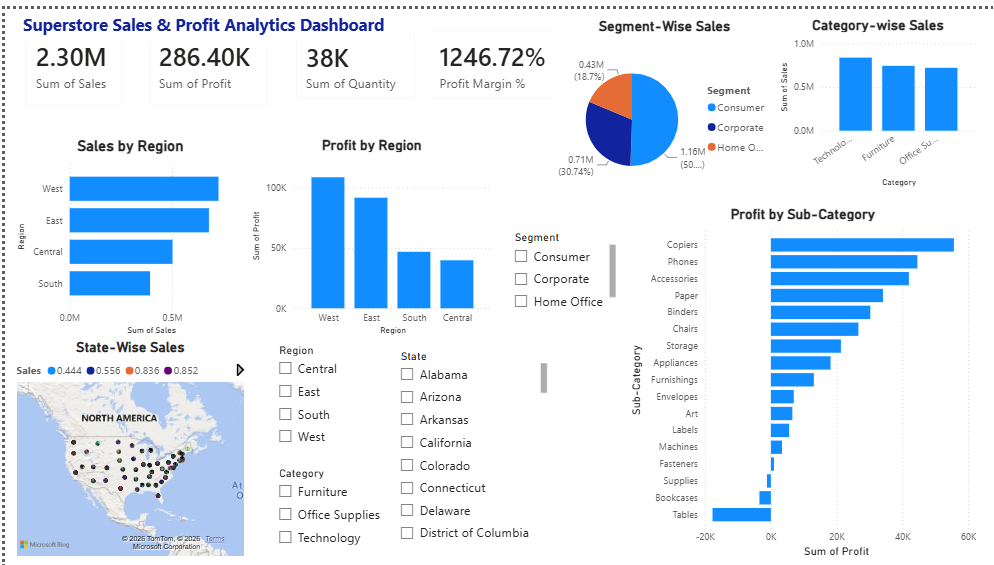

The page's visual inventory and layout, read from the dashboard file:
{"tool":"powerbi","page":{"name":"Dashboard","canvas":[1280,720],"ordinal":0},"visuals":[{"type":"cardVisual","fields":{"Data":["Sum(SampleSuperstore.Sales)"]},"box":[9.4,0,158.7,141.7],"z":0},{"type":"cardVisual","fields":{"Data":["Sum(SampleSuperstore.Profit)"]},"box":[168.2,0,187.1,141.7],"z":1000},{"type":"cardVisual","fields":{"Data":["SampleSuperstore.Profit Margin %"]},"box":[527.2,9.4,206,122.8],"z":2000},{"type":"cardVisual","fields":{"Data":["Sum(SampleSuperstore.Quantity)"]},"box":[355.3,11.3,187.1,120.9],"z":3000},{"type":"clusteredBarChart","title":"Sales by Region","fields":{"Category":["SampleSuperstore.Region"],"Y":["Sum(SampleSuperstore.Sales)"]},"box":[9.4,164.4,302.4,258.9],"z":4000},{"type":"clusteredColumnChart","title":"Profit by Region","fields":{"Category":["SampleSuperstore.Region"],"Y":["Sum(SampleSuperstore.Profit)"]},"box":[311.8,164.4,317.5,258.9],"z":5000},{"type":"pieChart","title":"Segment-Wise Sales","fields":{"Category":["SampleSuperstore.Segment"],"Y":["Sum(SampleSuperstore.Sales)"]},"box":[701.1,11.3,287.2,240],"z":6000},{"type":"clusteredColumnChart","title":"Category-wise Sales","fields":{"Category":["SampleSuperstore.Category"],"Y":["Sum(SampleSuperstore.Sales)"]},"box":[988.5,9.6,261.5,223.1],"z":7000},{"type":"barChart","title":"Profit by Sub-Category","fields":{"Category":["SampleSuperstore.Sub-Category"],"Y":["Sum(SampleSuperstore.Profit)"]},"box":[795.6,251.3,453.5,455.4],"z":8000},{"type":"map","title":"State-Wise Sales","fields":{"Category":["SampleSuperstore.State"],"Series":["SampleSuperstore.Sales"]},"box":[9,423,302,283],"z":9000},{"type":"slicer","fields":{"Values":["SampleSuperstore.Region"]},"box":[338.3,423.3,204.1,158.7],"z":9001},{"type":"slicer","fields":{"Values":["SampleSuperstore.Category"]},"box":[338.3,580.2,172,126.6],"z":9002},{"type":"slicer","fields":{"Values":["SampleSuperstore.Segment"]},"box":[640.6,279.7,147.4,107.7],"z":9003},{"type":"slicer","fields":{"Values":["SampleSuperstore.State"]},"box":[495.1,430.9,206,262.7],"z":9004},{"type":"textbox","box":[0,0,509.6,42.3],"z":9005}]}

Visuals, with their boxes in screenshot pixels (x1, y1, x2, y2), scaled from the page's 1280x720 canvas onto the 994x565 screenshot:
cardVisual - Sum(SampleSuperstore.Sales): <bbox>7, 0, 131, 111</bbox>
cardVisual - Sum(SampleSuperstore.Profit): <bbox>131, 0, 276, 111</bbox>
cardVisual - SampleSuperstore.Profit Margin %: <bbox>409, 7, 569, 104</bbox>
cardVisual - Sum(SampleSuperstore.Quantity): <bbox>276, 9, 421, 104</bbox>
"Sales by Region" clusteredBarChart: <bbox>7, 129, 242, 332</bbox>
"Profit by Region" clusteredColumnChart: <bbox>242, 129, 489, 332</bbox>
"Segment-Wise Sales" pieChart: <bbox>544, 9, 767, 197</bbox>
"Category-wise Sales" clusteredColumnChart: <bbox>768, 8, 971, 183</bbox>
"Profit by Sub-Category" barChart: <bbox>618, 197, 970, 555</bbox>
"State-Wise Sales" map: <bbox>7, 332, 242, 554</bbox>
slicer - SampleSuperstore.Region: <bbox>263, 332, 421, 457</bbox>
slicer - SampleSuperstore.Category: <bbox>263, 455, 396, 555</bbox>
slicer - SampleSuperstore.Segment: <bbox>497, 219, 612, 304</bbox>
slicer - SampleSuperstore.State: <bbox>384, 338, 544, 544</bbox>
textbox: <bbox>0, 0, 396, 33</bbox>
